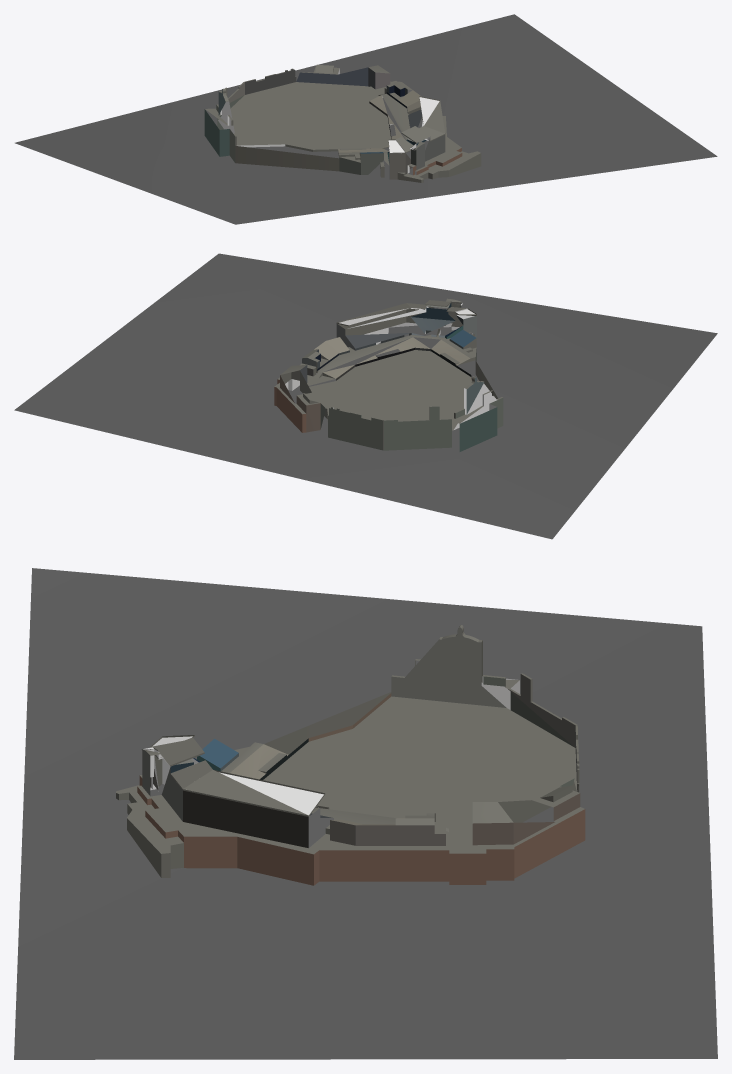
File: at-t-field-model.glb
3 views of the same model, one above another, from view 1: azimuth 30°, elevation 25°; view 2: azimuth 150°, elevation 25°; view 3: azimuth 270°, elevation 25° (orthographic). The views are drawn at different scales.
Parts seen in each view (by area): view 1: LOD0; view 2: LOD0; view 3: LOD0.
Part boxes in pixels (left/top/right/bottom): LOD0: left=15, top=14, right=717, bottom=224; LOD0: left=14, top=253, right=717, bottom=539; LOD0: left=14, top=568, right=717, bottom=1059.
Size of what is drawn, in the model's own units: 425 by 55.22 by 287.
2 materials, 2 textured.
